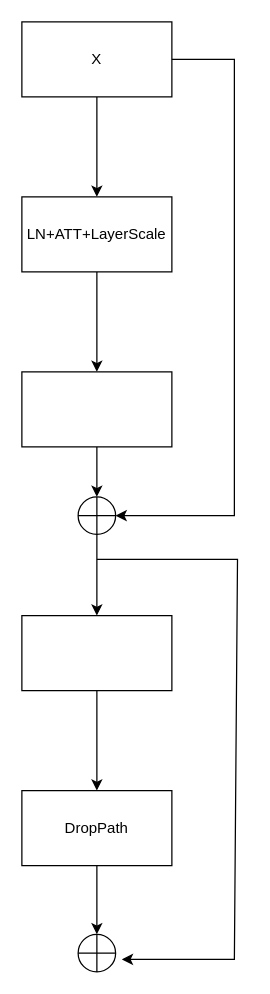
Image size: 270x994. Some labels were removed from this diagram. Here are the shapes that lost their labels. From the top down, the centre of each, then its label:
pixel 96 409: Drop Path
pixel 96 652: LN+MLP+LayerScale
